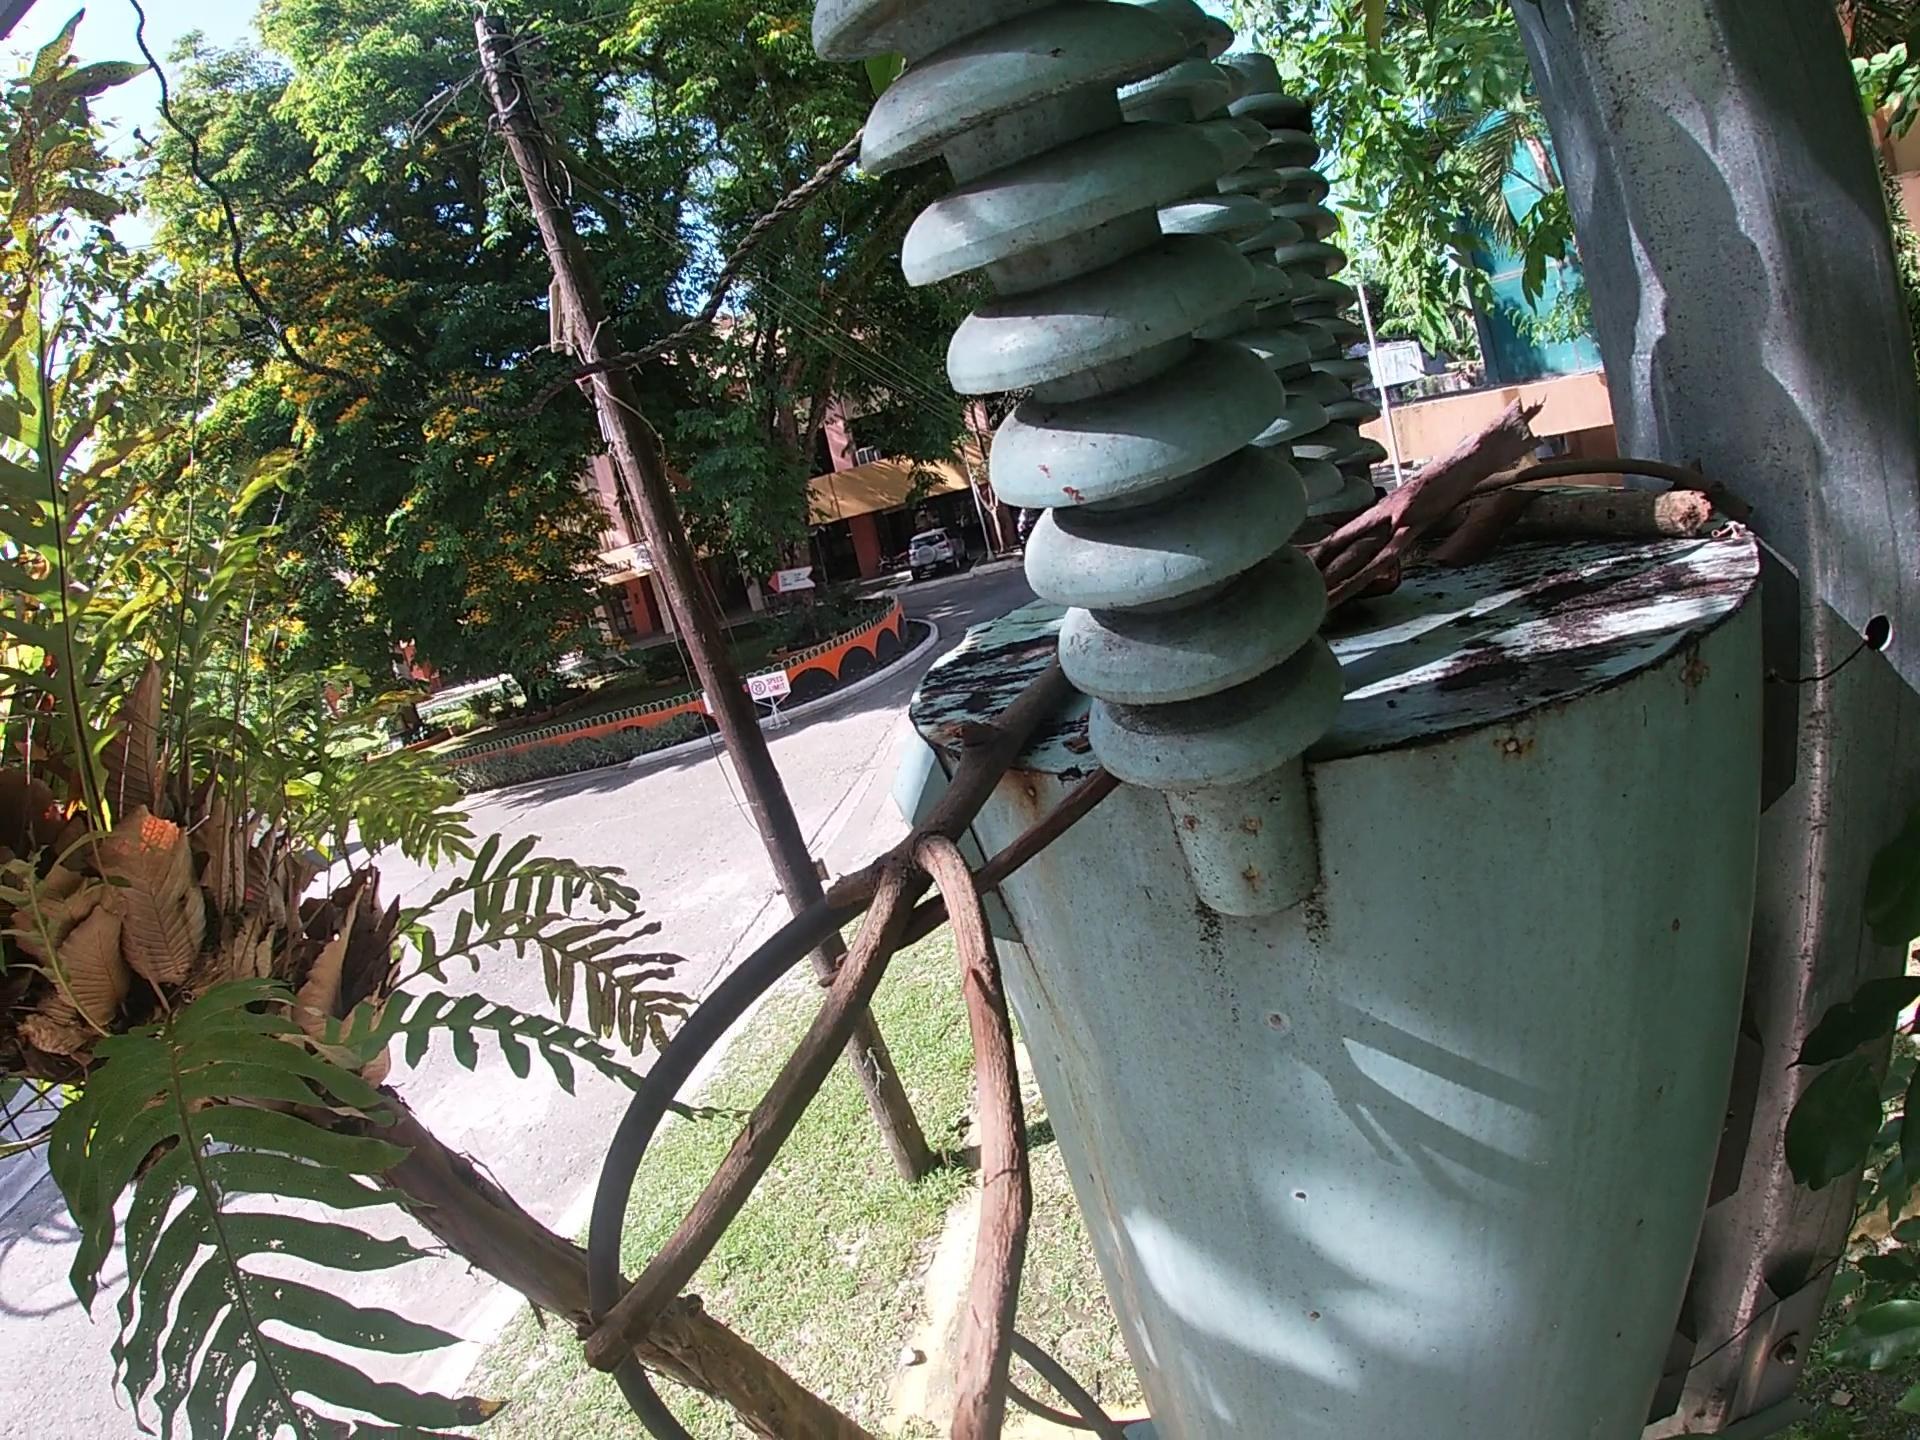leaf: (1429, 486, 1541, 572)
tree branch: (584, 625, 1084, 1440), (1312, 390, 1553, 622), (878, 764, 1120, 970), (1483, 448, 1767, 516), (1510, 486, 1711, 548)
